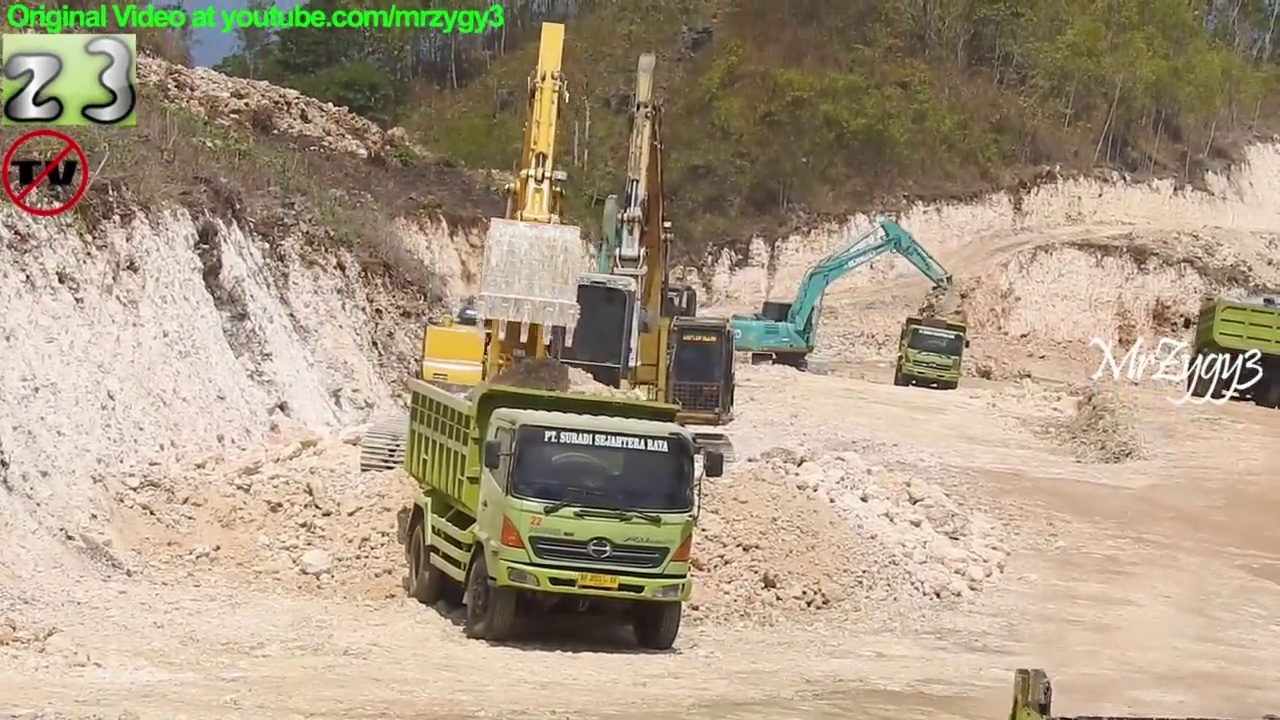excavator: (362, 17, 677, 493), (472, 45, 736, 483), (727, 216, 954, 374)
truck: (402, 374, 733, 654), (1185, 298, 1280, 414), (891, 312, 974, 395)
